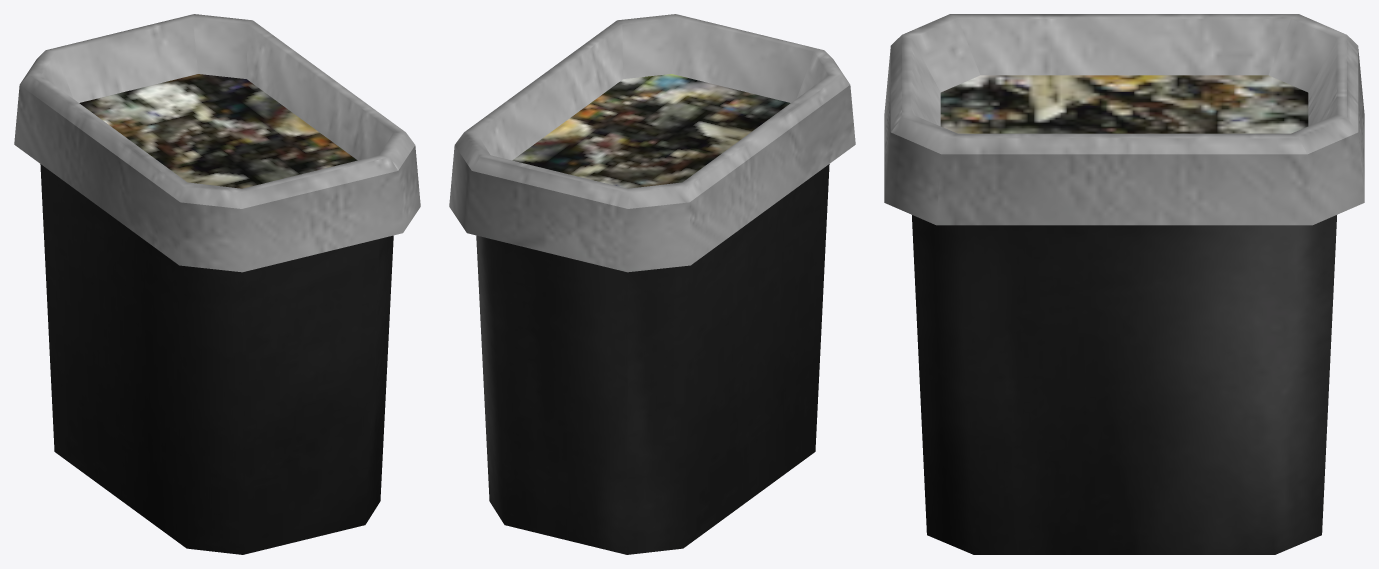
Rendered from Trash_can_01-col.glb.
3 renders of one model, left to right at view 1: azimuth 30°, elevation 25°; view 2: azimuth 150°, elevation 25°; view 3: azimuth 270°, elevation 25°, orthographic. The views are drawn at different scales.
Visible parts, largest first — view 1: Trash_can_01-col; view 2: Trash_can_01-col; view 3: Trash_can_01-col.
Boxes of the visible parts, bbox=[...] form: Trash_can_01-col: bbox=[14, 14, 420, 554]; Trash_can_01-col: bbox=[449, 14, 855, 554]; Trash_can_01-col: bbox=[884, 14, 1364, 554].
Size of the model in its own units: 0.9524 by 1.41 by 1.44.
1 material, 1 textured.
